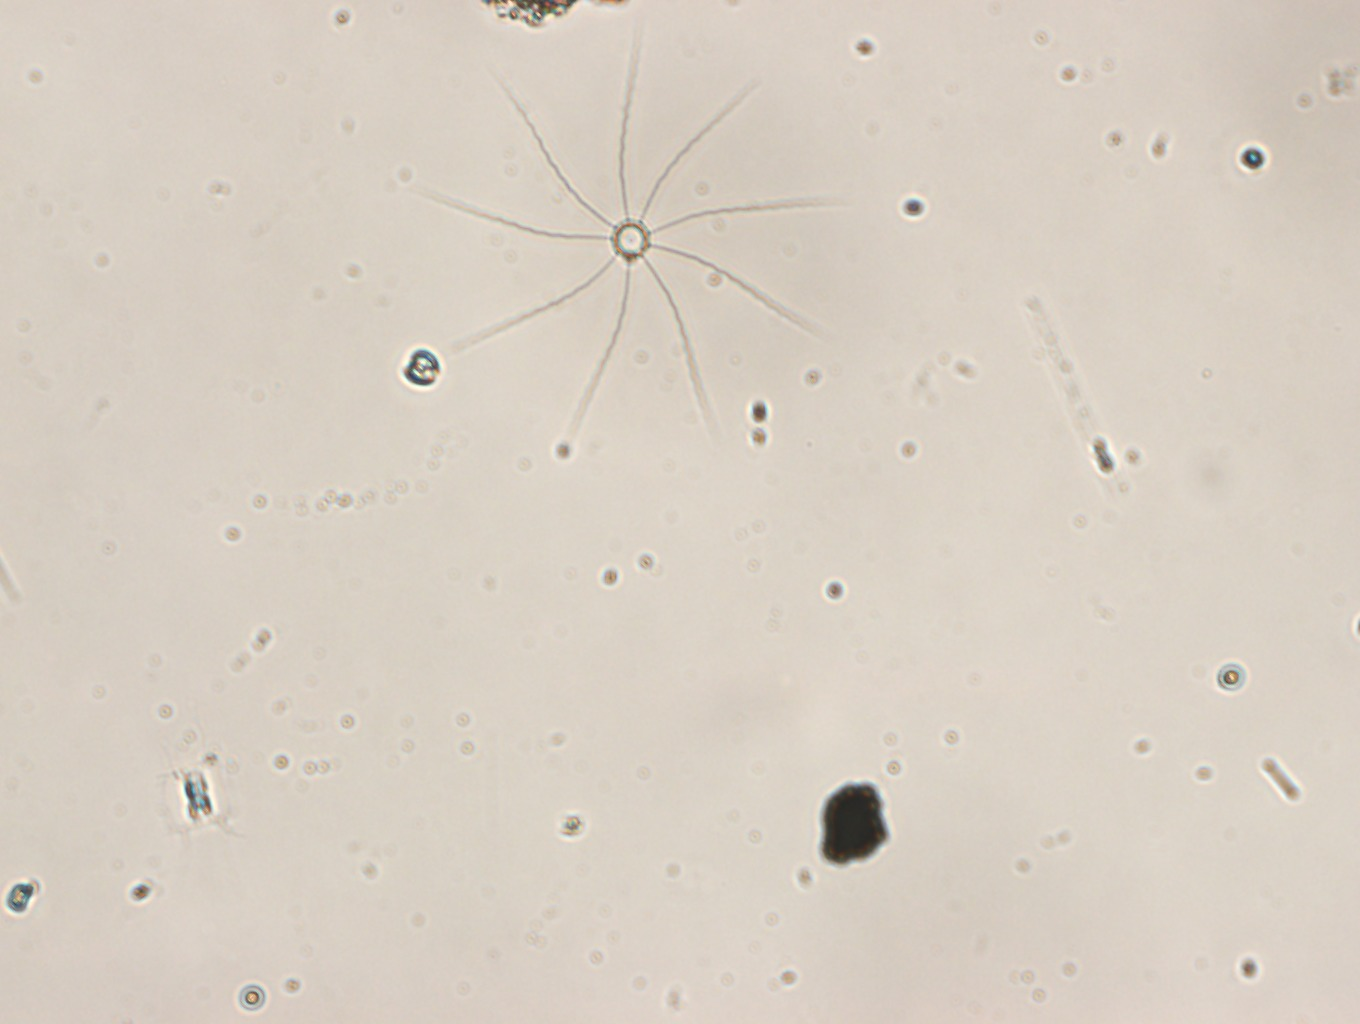bacteriastrum: (417, 22, 851, 445)
